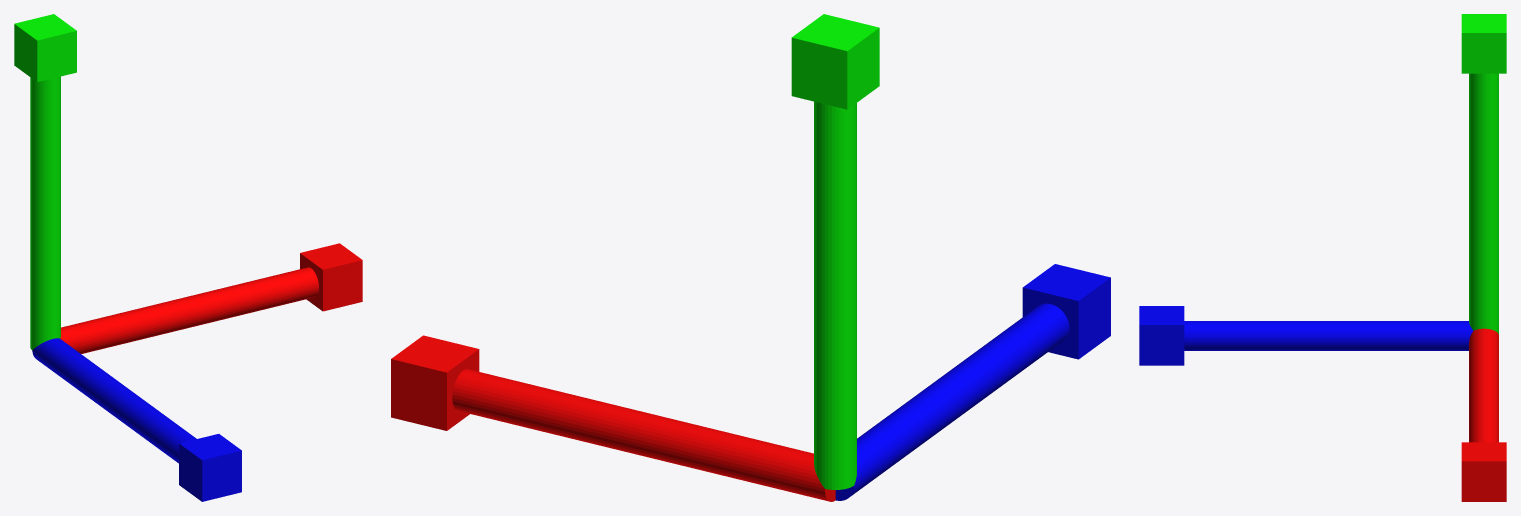
File: scale_gnomon.obj
3 views of the same model, side by side, from view 1: azimuth 30°, elevation 25°; view 2: azimuth 150°, elevation 25°; view 3: azimuth 270°, elevation 25° (orthographic). The views are drawn at different scales.
Parts seen in each view (by area): view 1: y_axis, x_axis, z_axis; view 2: y_axis, x_axis, z_axis; view 3: z_axis, y_axis, x_axis.
Part boxes in pixels (x1,y1,x2,y2): y_axis: (14,14,76,350); x_axis: (60,243,362,353); z_axis: (32,338,241,501); y_axis: (791,14,879,489); x_axis: (391,335,835,501); z_axis: (835,264,1110,500); z_axis: (1139,306,1473,365); y_axis: (1461,14,1506,334); x_axis: (1461,328,1506,501).
Bounding box in the file's own units: 1.22 × 1.22 × 1.22.
